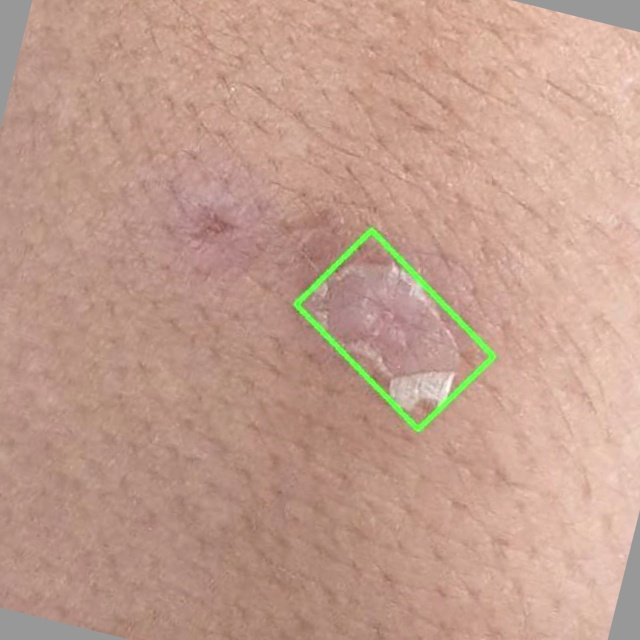Scabies: (296, 230, 494, 430)
